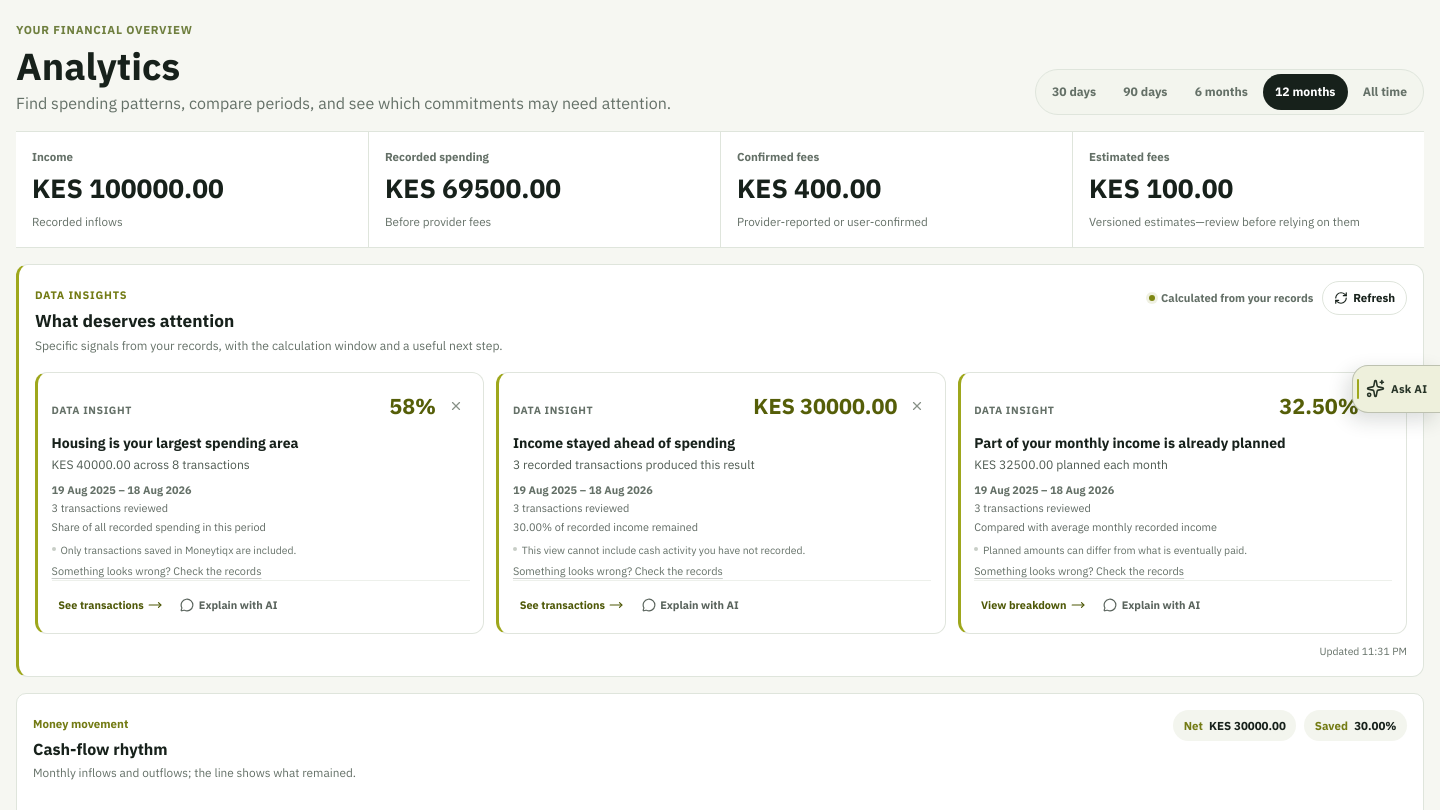
Analytics › closes the assistant drawer with Escape and restores focus to its edge shortcut
Expected: the heading "Analytics" is shown, [16,41,180,90]
Click the button with aria-label "Open financial assistant".
click(1396, 389)  # box [1352,365,1439,413]
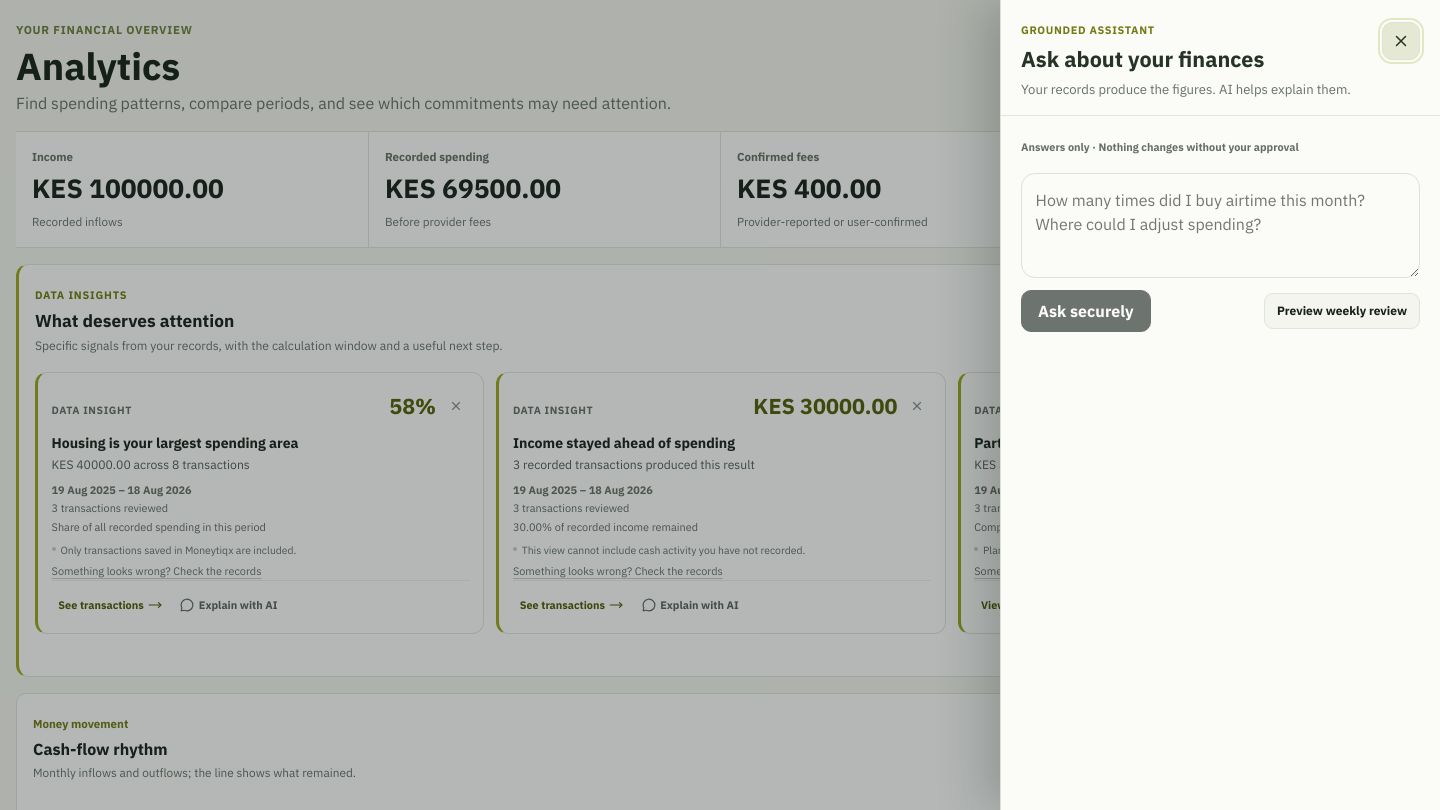
Expected: the dialog "Ask about your finances" is shown, [1000,0,1439,809]
Press Escape
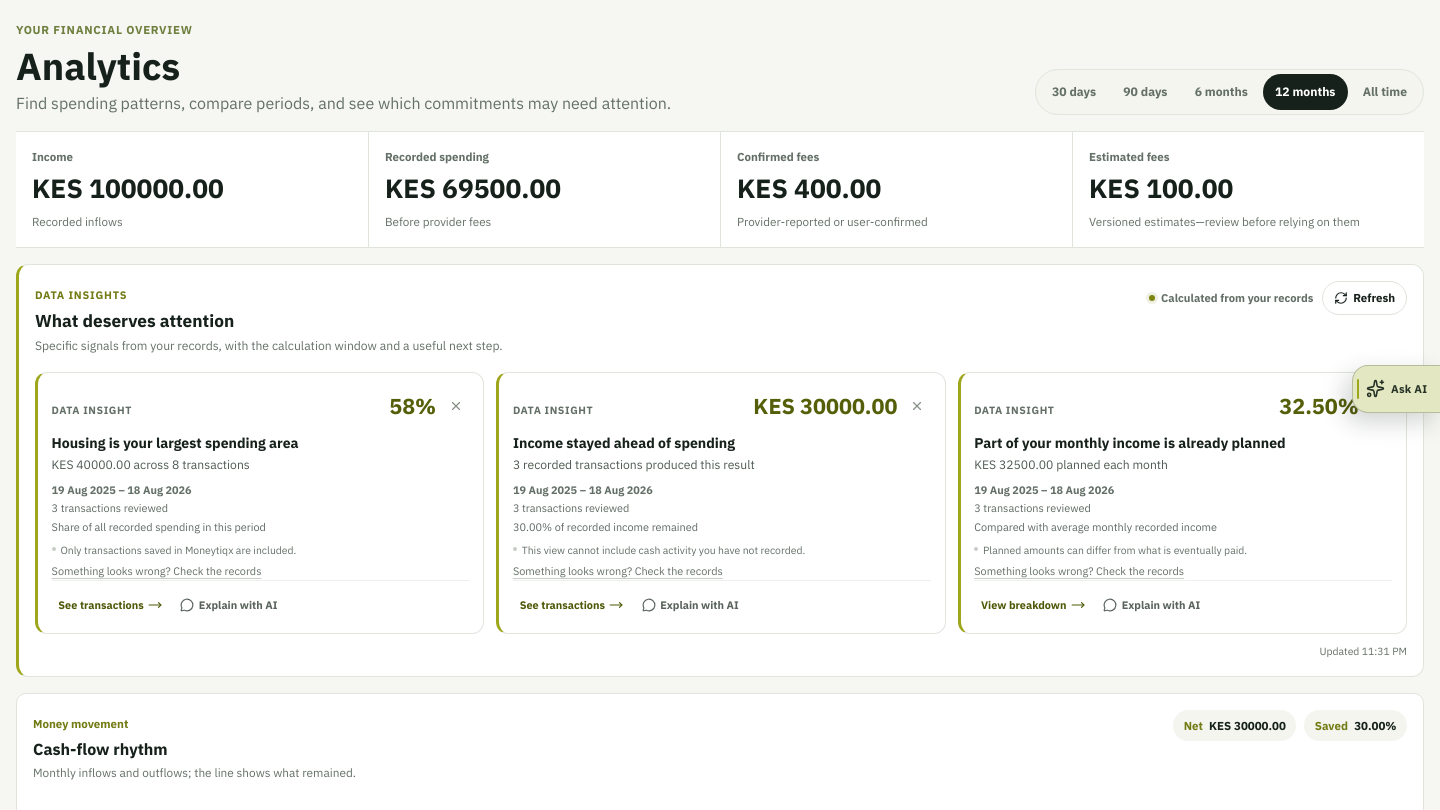
Expected: the heading "Ask about your finances" is gone
